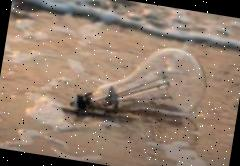lightbulb: (65, 32, 211, 134)
